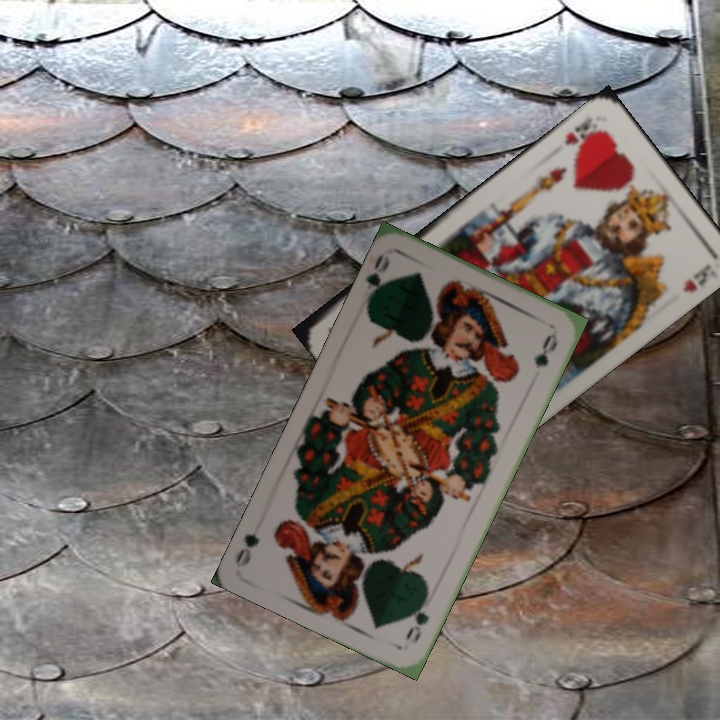GO: (362, 250, 394, 307), (401, 591, 432, 647)
HK: (560, 112, 603, 150)
